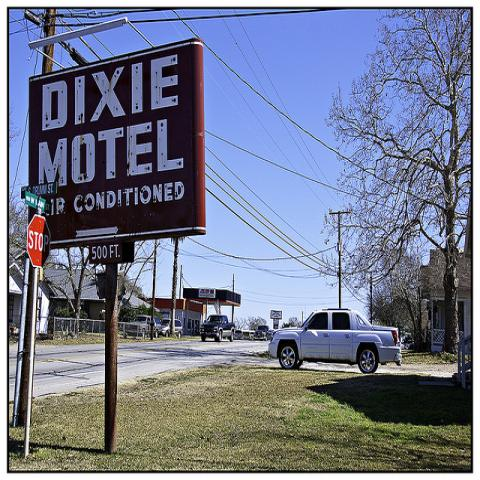car: (268, 310, 400, 375), (200, 314, 236, 342), (127, 314, 151, 338), (160, 318, 183, 338), (234, 330, 243, 338)
truck: (200, 314, 236, 343), (126, 315, 162, 337), (253, 324, 274, 342)
